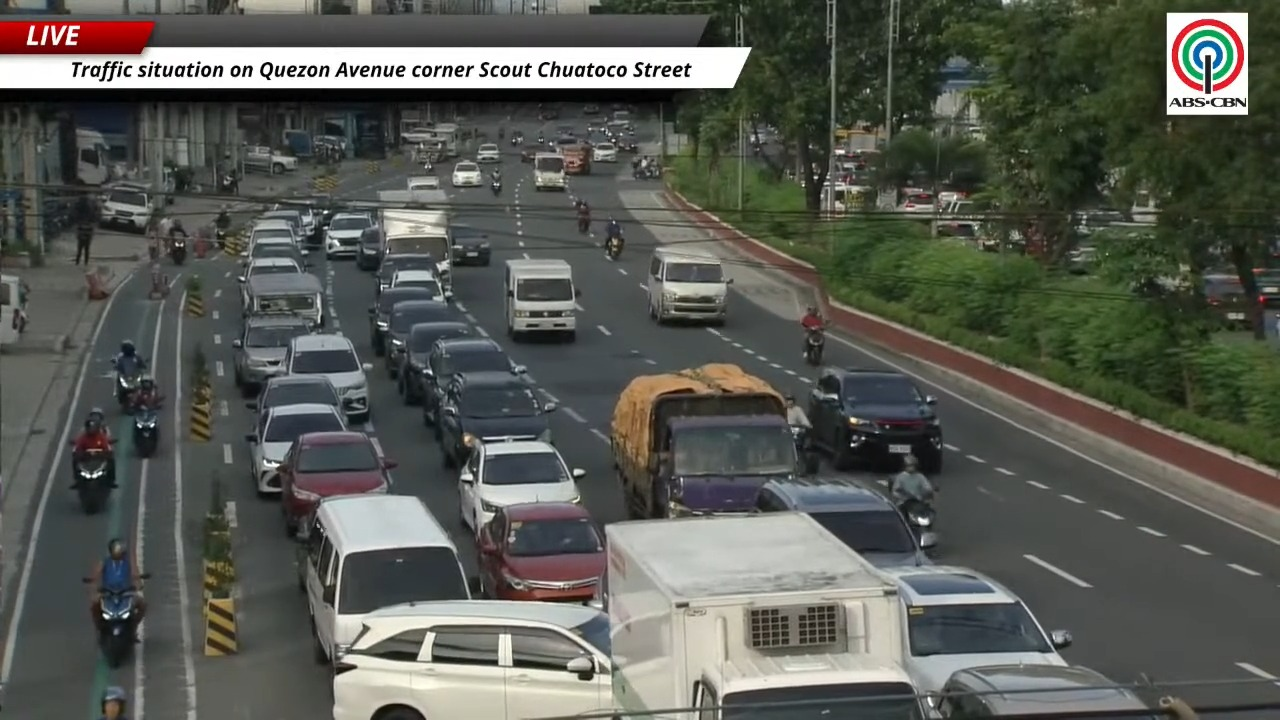car: (333, 600, 613, 719), (882, 566, 1071, 692), (754, 475, 935, 566), (808, 366, 943, 473), (477, 502, 604, 603), (277, 430, 396, 536), (928, 665, 1155, 719), (458, 440, 584, 533), (437, 370, 554, 466), (421, 337, 525, 429), (245, 404, 346, 495), (284, 334, 371, 423), (397, 321, 474, 404), (384, 296, 460, 378), (232, 315, 309, 394), (369, 287, 435, 356), (246, 375, 341, 420), (237, 257, 304, 311), (1204, 273, 1251, 330), (375, 253, 437, 295), (99, 186, 153, 232), (324, 213, 372, 258), (272, 199, 319, 242), (242, 238, 307, 269), (390, 269, 451, 301), (449, 224, 490, 266), (258, 209, 312, 240), (248, 219, 299, 251), (239, 257, 304, 282), (355, 225, 384, 270), (1253, 268, 1279, 310), (898, 192, 938, 214), (451, 161, 482, 187), (406, 175, 439, 191), (592, 142, 617, 162), (476, 143, 501, 163), (551, 135, 580, 151), (521, 143, 544, 163), (583, 103, 600, 114)
motorcycle: (98, 586, 136, 668), (73, 449, 113, 514), (899, 498, 935, 548), (790, 425, 819, 475), (133, 405, 159, 457), (116, 368, 140, 412), (804, 328, 825, 366), (169, 236, 186, 265), (219, 172, 239, 195), (632, 165, 660, 179), (605, 237, 622, 260), (577, 214, 589, 234), (215, 228, 226, 248), (490, 179, 501, 196), (423, 159, 434, 173), (510, 134, 522, 146), (537, 134, 545, 144)
truck: (603, 512, 924, 719), (610, 363, 808, 518), (377, 189, 452, 290), (533, 152, 565, 191), (561, 144, 590, 175)
